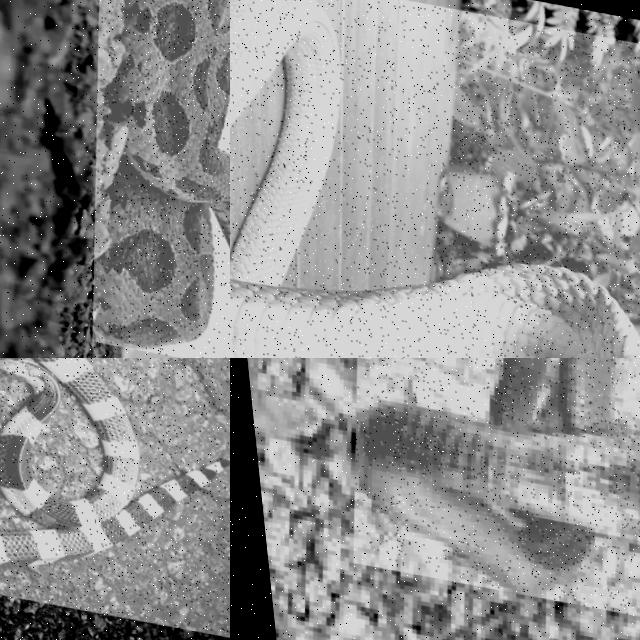Bungarus fasciatus: (0, 358, 229, 563)
Daboia siamensis: (93, 0, 229, 349)
Naja kaouthia: (230, 0, 639, 357), (354, 358, 639, 595)
